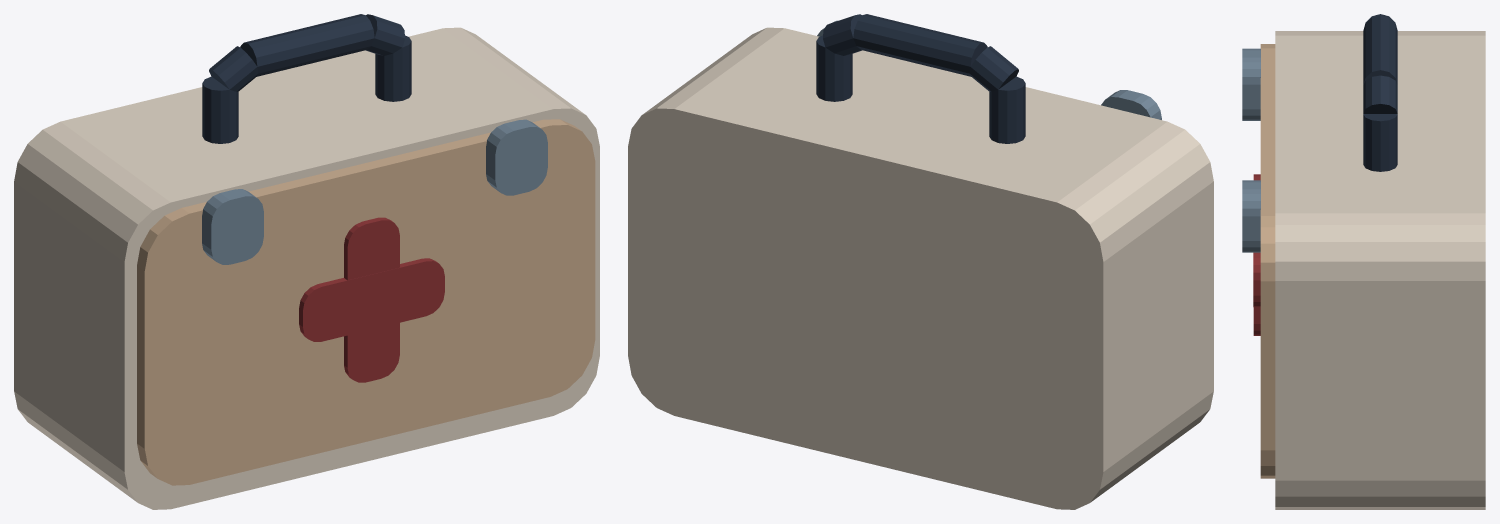
File: firstaid.glb
3 views of the same model, side by side, from view 1: azimuth 30°, elevation 25°; view 2: azimuth 150°, elevation 25°; view 3: azimuth 270°, elevation 25° (orthographic). The views are drawn at different scales.
Visible parts, largest first — view 1: lid, case, cross horizontal, cross vertical, carry handle2, closure 0.46, closure -0.46, carry handle0, carry handle4, carry handle1, carry handle3; view 2: case, carry handle2, carry handle0, carry handle4, carry handle1, carry handle3, closure -0.46; view 3: case, lid, carry handle2, carry handle4, closure -0.46, closure 0.46, carry handle3, cross horizontal, cross vertical.
Part boxes in pixels (x1,y1,x2,y2): lid: (137,119,595,485); case: (14,27,599,509); cross horizontal: (299,258,444,341); cross vertical: (344,217,399,382); carry handle2: (240,14,374,76); closure 0.46: (486,119,547,195); closure -0.46: (202,189,263,264); carry handle0: (202,76,238,143); carry handle4: (375,35,411,101); carry handle1: (209,46,258,91); carry handle3: (366,14,404,55); case: (628,27,1213,509); carry handle2: (853,14,987,76); carry handle0: (989,76,1025,143); carry handle4: (816,35,852,101); carry handle1: (969,46,1018,91); carry handle3: (823,14,861,55); closure -0.46: (1101,90,1161,119); case: (1275,31,1485,509); lid: (1260,44,1275,478); carry handle2: (1363,15,1397,84); carry handle4: (1363,114,1397,171); closure -0.46: (1242,48,1260,120); closure 0.46: (1242,180,1260,252); carry handle3: (1363,75,1397,113); cross horizontal: (1253,252,1260,307); cross vertical: (1253,174,1260,335).
Size of the model in its own units: 1.54 by 1.22 by 0.7175.
